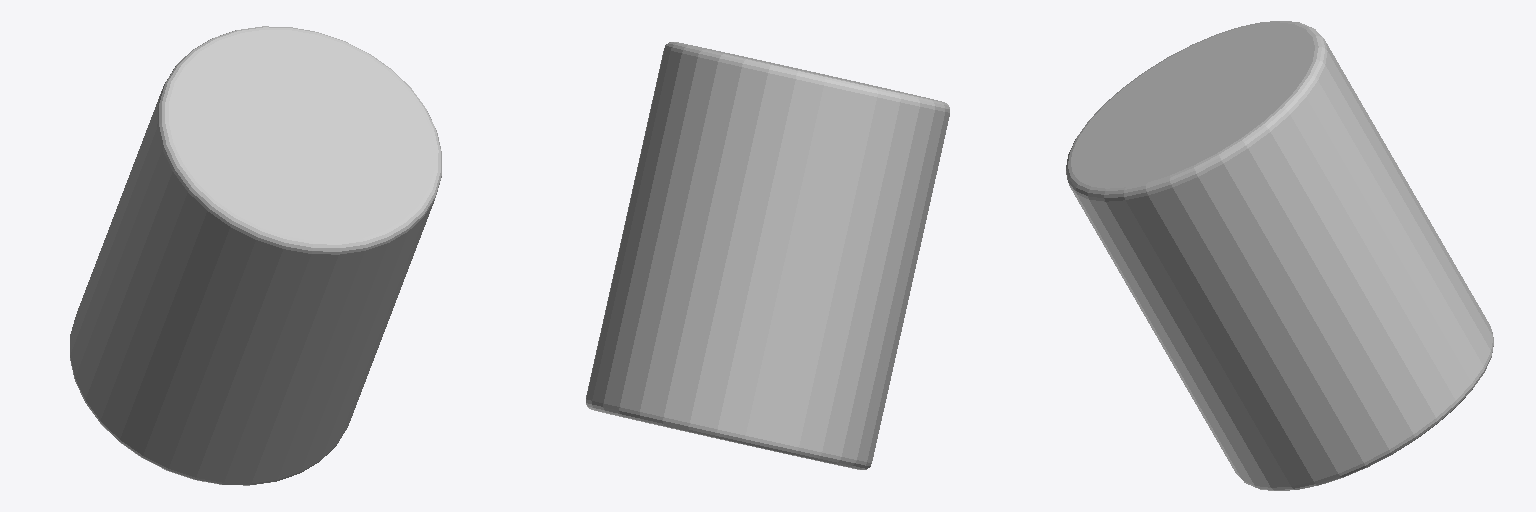
The model's file is cylinder_red.obj.
3 views of the same model, side by side, from view 1: azimuth 30°, elevation 25°; view 2: azimuth 150°, elevation 25°; view 3: azimuth 270°, elevation 25° (orthographic).
Parts seen in each view (by area): view 1: 000_Cylinder; view 2: 000_Cylinder; view 3: 000_Cylinder.
Boxes of the visible parts, x1=… form: 000_Cylinder: x1=70, y1=26, x2=441, y2=485; 000_Cylinder: x1=586, y1=42, x2=949, y2=469; 000_Cylinder: x1=1066, y1=21, x2=1493, y2=490.
Bounding box in the file's own units: 130 × 202 × 186.